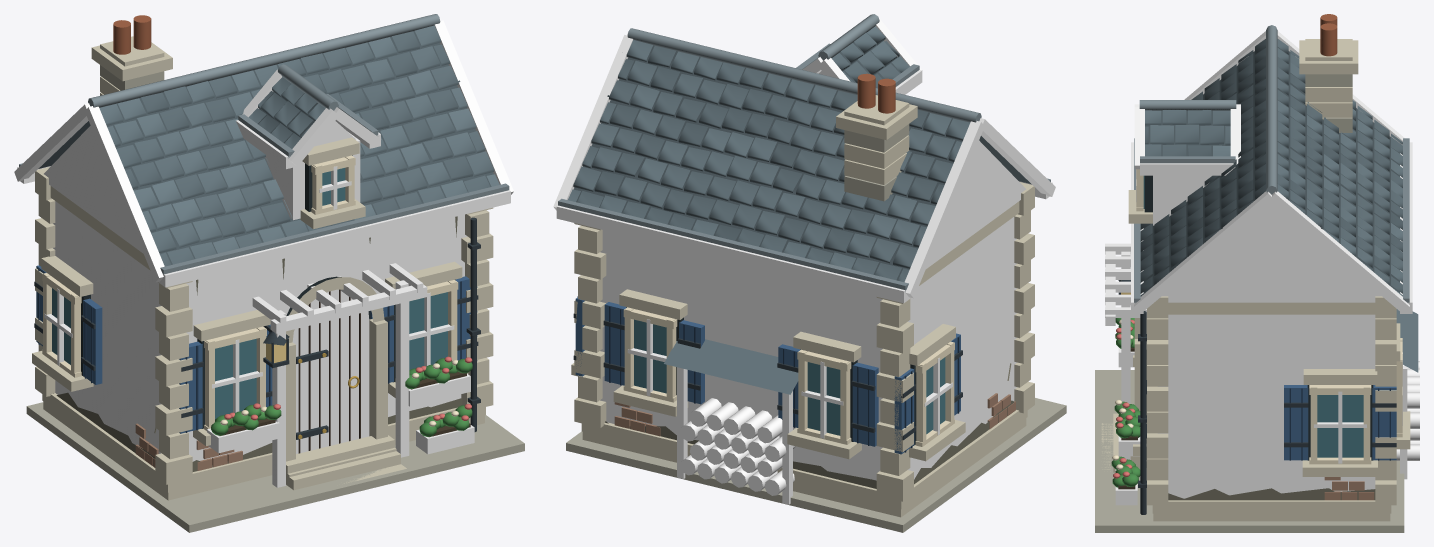
File: garden_house_ash.glb
3 renders of one model, left to right at view 1: azimuth 30°, elevation 25°; view 2: azimuth 150°, elevation 25°; view 3: azimuth 270°, elevation 25°, orthographic. The views are drawn at different scales.
Parts seen in each view (by area): view 1: SourceMesh_00056, SourceMesh_00005, SourceMesh_00000, SourceMesh_00106, SourceMesh_00047, SourceMesh_00048, SourceMesh_00050, SourceMesh_00006, SourceMesh_00049, SourceMesh_00099, SourceMesh_00052, SourceMesh_00310 (+52 smaller); view 2: SourceMesh_00056, SourceMesh_00005, SourceMesh_00044, SourceMesh_00000, SourceMesh_00045, SourceMesh_00050, SourceMesh_00006, SourceMesh_00374, SourceMesh_00046, SourceMesh_00001, SourceMesh_00051, SourceMesh_00099 (+49 smaller); view 3: SourceMesh_00005, SourceMesh_00056, SourceMesh_00053, SourceMesh_00000, SourceMesh_00099, SourceMesh_00044, SourceMesh_00006, SourceMesh_00007, SourceMesh_00214, SourceMesh_00054, SourceMesh_00055, SourceMesh_00047 (+56 smaller).
Part boxes in pixels (x1,y1,x2,y2): SourceMesh_00056: (99, 25, 499, 266); SourceMesh_00005: (53, 201, 467, 461); SourceMesh_00000: (26, 402, 524, 532); SourceMesh_00106: (292, 289, 369, 453); SourceMesh_00047: (107, 31, 493, 264); SourceMesh_00048: (158, 190, 510, 287); SourceMesh_00050: (44, 126, 143, 253); SourceMesh_00006: (42, 393, 485, 492); SourceMesh_00049: (160, 183, 509, 274); SourceMesh_00099: (249, 77, 325, 148); SourceMesh_00052: (85, 106, 164, 282); SourceMesh_00310: (395, 280, 409, 457); SourceMesh_00056: (568, 40, 969, 282); SourceMesh_00005: (600, 217, 1016, 480); SourceMesh_00044: (573, 45, 962, 280); SourceMesh_00000: (566, 398, 1066, 532); SourceMesh_00045: (556, 205, 910, 303); SourceMesh_00050: (926, 140, 1025, 268); SourceMesh_00006: (581, 410, 1027, 509); SourceMesh_00374: (664, 339, 798, 394); SourceMesh_00046: (558, 198, 908, 291); SourceMesh_00001: (582, 418, 1026, 517); SourceMesh_00051: (904, 121, 983, 298); SourceMesh_00099: (832, 26, 909, 87); SourceMesh_00005: (1158, 314, 1375, 498); SourceMesh_00056: (1140, 39, 1402, 296); SourceMesh_00053: (1162, 203, 1381, 302); SourceMesh_00000: (1095, 370, 1404, 532); SourceMesh_00099: (1145, 110, 1230, 156); SourceMesh_00044: (1277, 47, 1399, 292); SourceMesh_00006: (1152, 500, 1391, 513); SourceMesh_00007: (1168, 302, 1375, 314); SourceMesh_00214: (1317, 395, 1363, 457); SourceMesh_00054: (1269, 191, 1409, 313); SourceMesh_00055: (1134, 191, 1274, 313); SourceMesh_00047: (1143, 47, 1265, 292).
Size of the model in its own units: 5.29 by 5.78 by 4.41.
